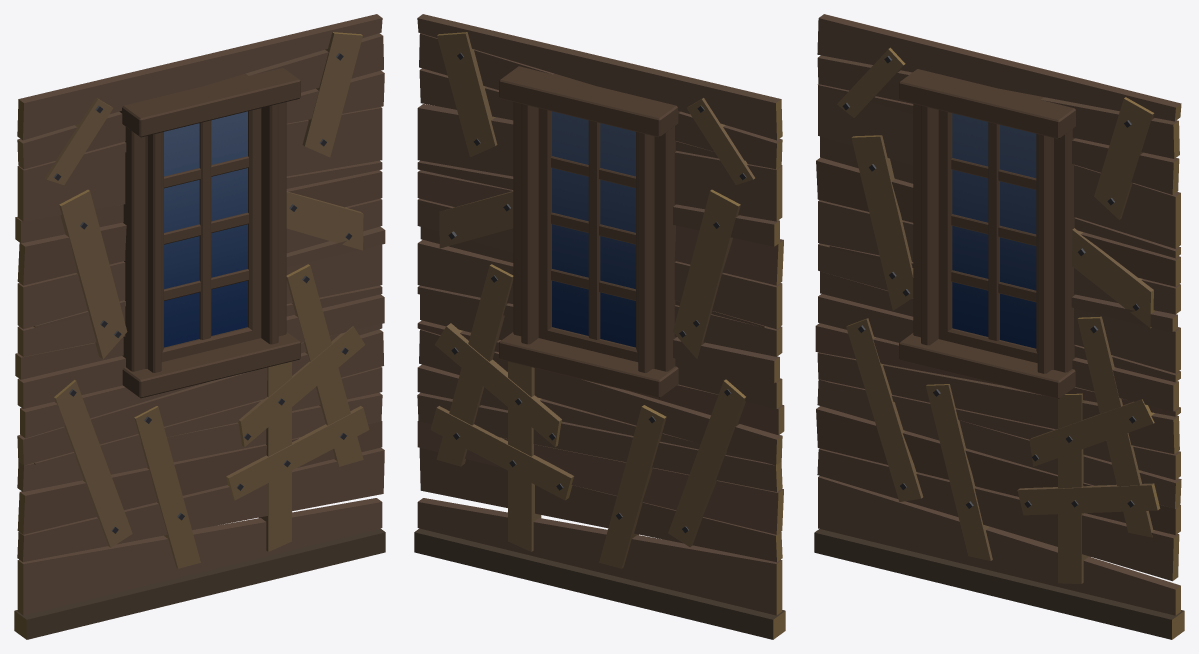
File: Wall_1G_Window_4mx6m.fbx
3 renders of one model, left to right at view 1: azimuth 30°, elevation 25°; view 2: azimuth 150°, elevation 25°; view 3: azimuth 330°, elevation 25°, orthographic.
Parts seen in each view (by area): view 1: pCube2413; view 2: pCube2413; view 3: pCube2413.
Boxes of the visible parts, x1,y1,x2,y2 form: pCube2413: (14,14,385,639); pCube2413: (414,14,785,639); pCube2413: (814,14,1184,639).
Size of the model in its own units: 401 by 569 by 80.
